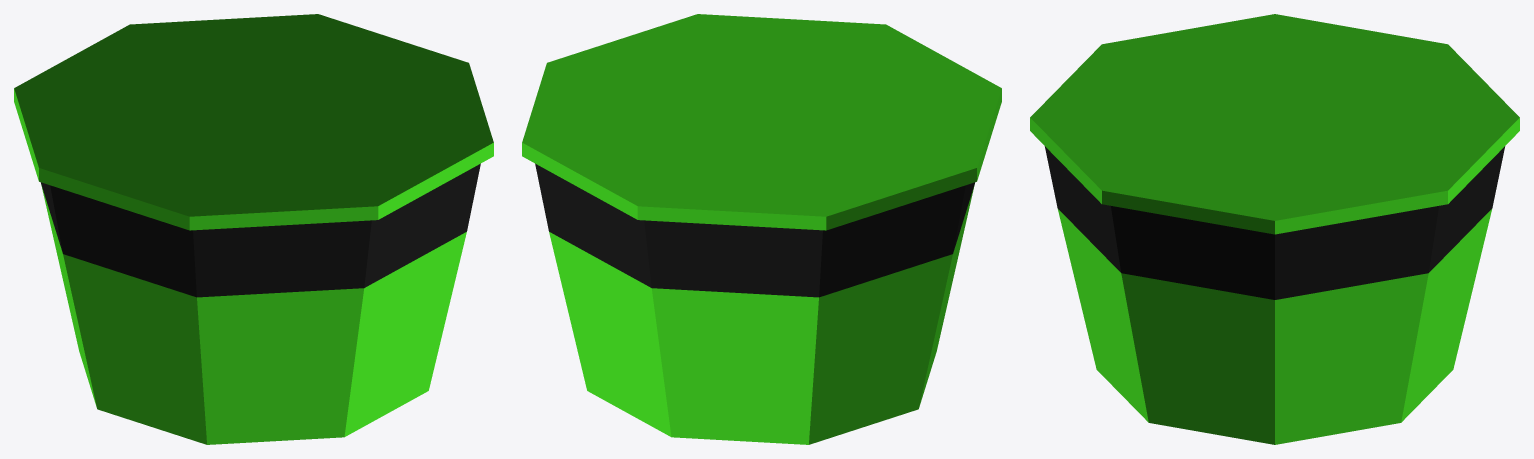
File: Instant Noodles.fbx
The picture shows the model from 3 angles, left to right: view 1: azimuth 30°, elevation 25°; view 2: azimuth 150°, elevation 25°; view 3: azimuth 270°, elevation 25°; orthographic projection.
Parts seen in each view (by area): view 1: Node 0; view 2: Node 0; view 3: Node 0.
Part boxes in pixels (box(x1,y1,x2,y2)): Node 0: box(14, 14, 493, 444); Node 0: box(522, 14, 1001, 444); Node 0: box(1030, 14, 1519, 444).
Size of the model in its own units: 0.1724 by 0.0979 by 0.1724.
